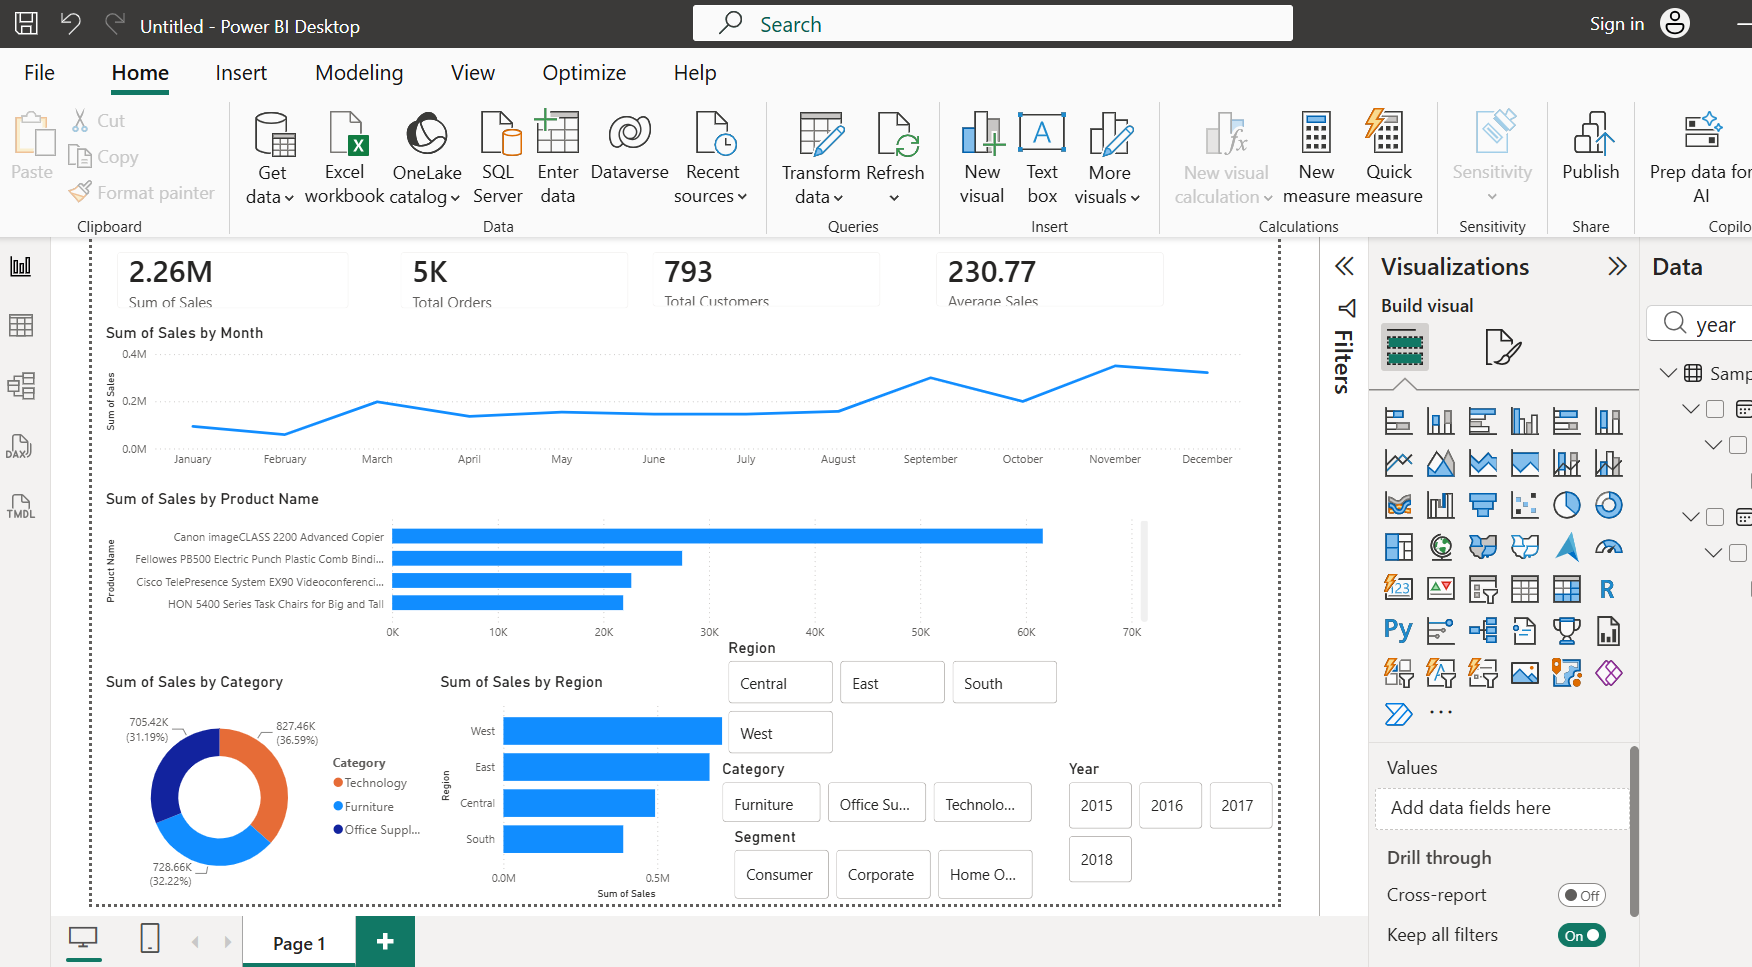

This screenshot's page, from the dashboard's own definition file:
{"tool":"powerbi","page":{"name":"Page 1","canvas":[1280,720],"ordinal":0},"visuals":[{"type":"cardVisual","fields":{"Data":["Sum(SampleSuperstore.Sales)"]},"box":[11.3,64.8,285,95.5],"z":0},{"type":"cardVisual","fields":{"Data":["SampleSuperstore.Total Orders"]},"box":[306,64.8,280.1,95.5],"z":1},{"type":"cardVisual","fields":{"Data":["SampleSuperstore.Total Customers"]},"box":[587.8,66.4,280.1,93.9],"z":2},{"type":"cardVisual","fields":{"Data":["SampleSuperstore.Average Sales"]},"box":[885.7,66.4,280.1,93.9],"z":3},{"type":"lineChart","fields":{"Category":["SampleSuperstore.Order Date.Variation.Date Hierarchy.Month"],"Y":["Sum(SampleSuperstore.Sales)"]},"box":[0,160.3,1212.8,127.9],"z":4},{"type":"clusteredBarChart","fields":{"Category":["SampleSuperstore.Product Name"],"Y":["Sum(SampleSuperstore.Sales)"]},"box":[11.3,288.2,1120.5,161.9],"z":5},{"type":"donutChart","fields":{"Category":["SampleSuperstore.Category"],"Y":["Sum(SampleSuperstore.Sales)"]},"box":[9.7,471.2,361.1,249.4],"z":6},{"type":"barChart","fields":{"Category":["SampleSuperstore.Region"],"Y":["Sum(SampleSuperstore.Sales)"]},"box":[370.8,471.2,357.8,249.4],"z":7},{"type":"advancedSlicerVisual","fields":{"Values":["SampleSuperstore.Region"]},"box":[681.7,434,367.6,131.2],"z":8},{"type":"advancedSlicerVisual","fields":{"Values":["SampleSuperstore.Category"]},"box":[675.2,565.1,346.5,72.9],"z":9},{"type":"advancedSlicerVisual","fields":{"Values":["SampleSuperstore.Segment"]},"box":[688.2,638,333.6,82.6],"z":10},{"type":"advancedSlicerVisual","fields":{"Values":["SampleSuperstore.Order Date.Variation.Date Hierarchy.Year"]},"box":[1049.3,565.1,231.5,137.6],"z":11},{"type":"textbox","box":[427.5,19.4,599.1,66.4],"z":12}]}

Visuals, with their boxes on the page's 1280x720 design canvas (x1, y1, x2, y2). These are canvas units, not pixel positions in the 1752x967 screenshot, which may show the page scaled, cropped or inside an application window:
cardVisual - Sum(SampleSuperstore.Sales): region(11, 65, 296, 160)
cardVisual - SampleSuperstore.Total Orders: region(306, 65, 586, 160)
cardVisual - SampleSuperstore.Total Customers: region(588, 66, 868, 160)
cardVisual - SampleSuperstore.Average Sales: region(886, 66, 1166, 160)
lineChart - SampleSuperstore.Order Date.Variation.Date Hierarchy.Month x Sum(SampleSuperstore.Sales): region(0, 160, 1213, 288)
clusteredBarChart - SampleSuperstore.Product Name x Sum(SampleSuperstore.Sales): region(11, 288, 1132, 450)
donutChart - SampleSuperstore.Category x Sum(SampleSuperstore.Sales): region(10, 471, 371, 721)
barChart - SampleSuperstore.Region x Sum(SampleSuperstore.Sales): region(371, 471, 729, 721)
advancedSlicerVisual - SampleSuperstore.Region: region(682, 434, 1049, 565)
advancedSlicerVisual - SampleSuperstore.Category: region(675, 565, 1022, 638)
advancedSlicerVisual - SampleSuperstore.Segment: region(688, 638, 1022, 721)
advancedSlicerVisual - SampleSuperstore.Order Date.Variation.Date Hierarchy.Year: region(1049, 565, 1281, 703)
textbox: region(428, 19, 1027, 86)
